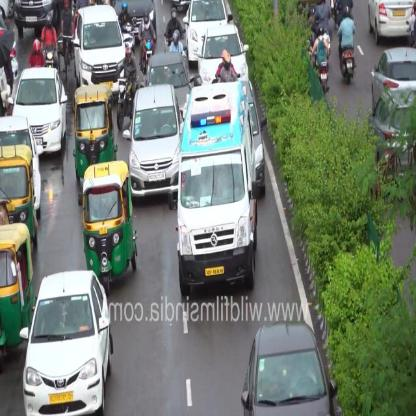auto-rikshaw: (80, 158, 140, 291), (74, 82, 119, 182)
bike: (116, 76, 139, 130), (312, 46, 330, 94), (58, 32, 76, 78), (340, 44, 356, 86), (140, 36, 154, 76), (318, 60, 330, 95), (122, 24, 136, 52), (43, 42, 57, 68)
car: (21, 268, 115, 414), (241, 318, 341, 414), (122, 82, 184, 208), (10, 64, 68, 156), (72, 3, 128, 95), (367, 81, 415, 184), (2, 113, 42, 217), (146, 49, 202, 119), (182, 0, 234, 66), (196, 22, 250, 84), (370, 45, 416, 113), (367, 0, 415, 46), (14, 1, 58, 40)
priority: (176, 78, 260, 298)
